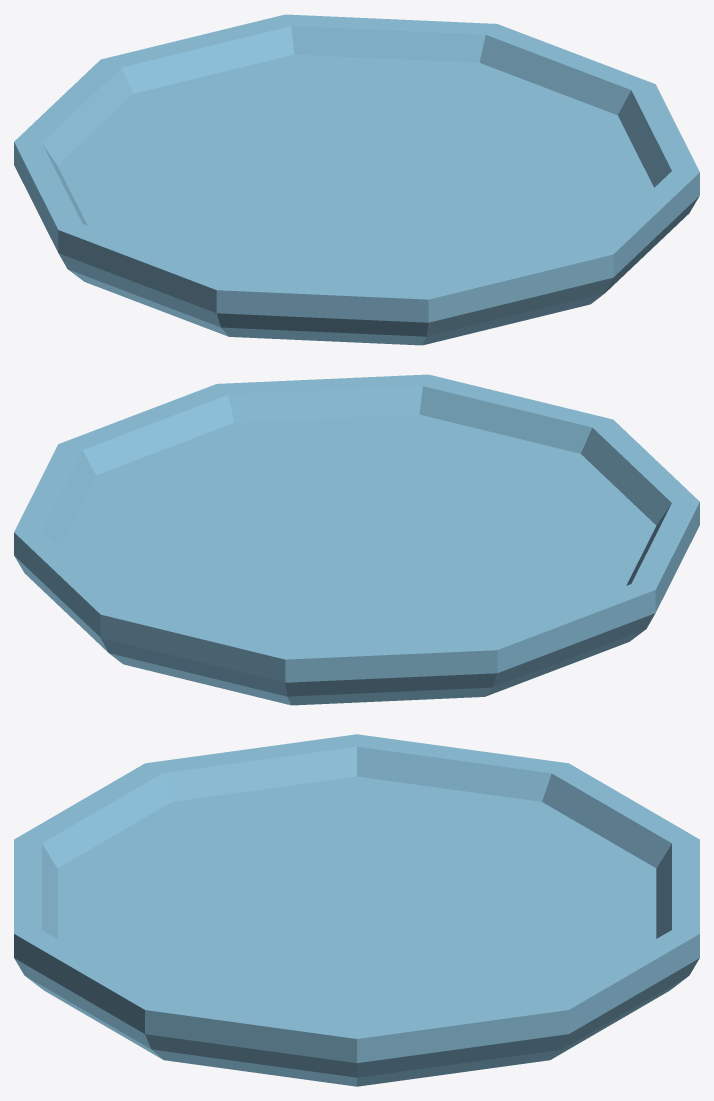
File: KAC_Micro_Tray_V2.glb
3 views of the same model, one above another, from view 1: azimuth 30°, elevation 25°; view 2: azimuth 150°, elevation 25°; view 3: azimuth 270°, elevation 25° (orthographic). The views are drawn at different scales.
Visible parts, largest first — view 1: KAC_Micro_Tray_V2; view 2: KAC_Micro_Tray_V2; view 3: KAC_Micro_Tray_V2.
Boxes of the visible parts, bbox=[...] form: KAC_Micro_Tray_V2: bbox=[14, 14, 699, 345]; KAC_Micro_Tray_V2: bbox=[14, 374, 699, 705]; KAC_Micro_Tray_V2: bbox=[14, 734, 699, 1086].
Size of the model in its own units: 0.1777 by 0.0166 by 0.169.
Materials: 1 (1 with a texture image).
